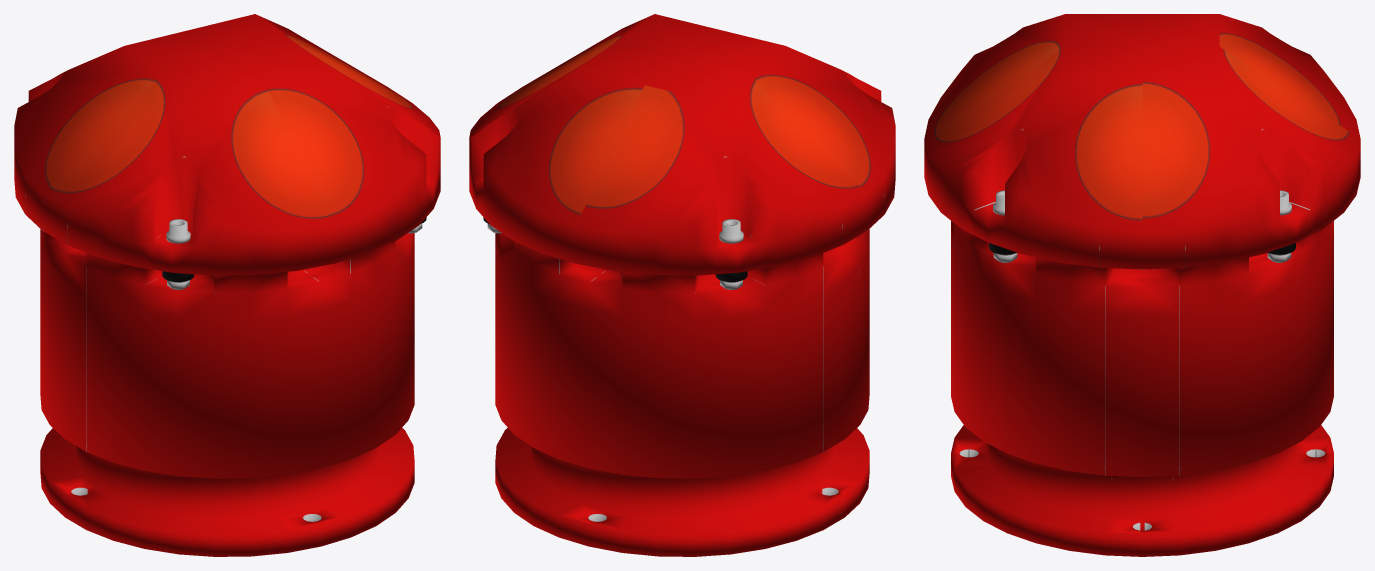
File: WorkhorseNavigator.dae
3 views of the same model, side by side, from view 1: azimuth 30°, elevation 25°; view 2: azimuth 150°, elevation 25°; view 3: azimuth 270°, elevation 25° (orthographic). The views are drawn at different scales.
Parts seen in each view (by area): view 1: Cylinder; view 2: Cylinder; view 3: Cylinder.
Boxes of the visible parts, x1,y1,x2,y2 form: Cylinder: (14, 14, 440, 556); Cylinder: (469, 14, 895, 556); Cylinder: (924, 14, 1360, 556).
Bounding box in the file's own units: 0.2252 × 0.2252 × 0.2445.
